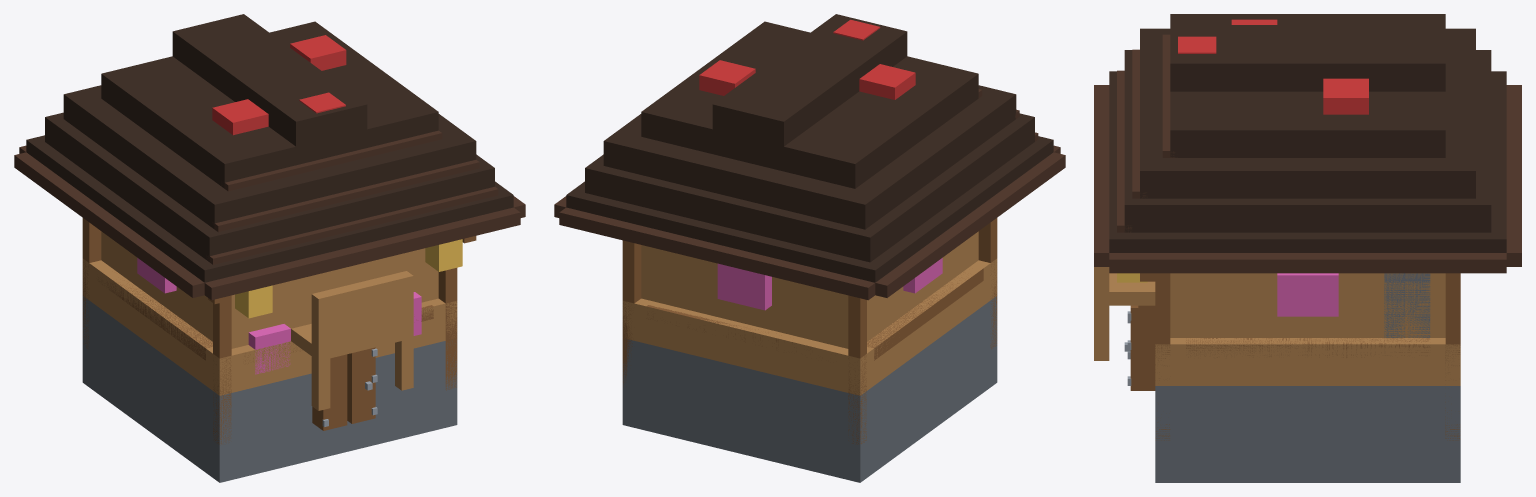
The model's file is house_1.gltf.
The picture shows the model from 3 angles, left to right: view 1: azimuth 30°, elevation 25°; view 2: azimuth 150°, elevation 25°; view 3: azimuth 270°, elevation 25°; orthographic projection. The views are drawn at different scales.
Parts seen in each view (by area): view 1: roof_layer_3, roof_layer_2, roof_ridge, roof_layer_1, foundation, roof_layer_0, second_story_core, wall_south_low, wall_west_low, eave_front, wall_west_oak, wall_south_oak (+25 smaller); view 2: roof_layer_3, roof_layer_2, roof_layer_1, roof_ridge, second_story_core, wall_north_low, wall_north_oak, roof_layer_0, foundation, wall_west_low, eave_back, wall_west_oak (+12 smaller); view 3: roof_layer_2, roof_layer_3, roof_ridge, roof_layer_1, wall_east_low, second_story_core, wall_east_oak, roof_layer_0, foundation, eave_right, base_trim_e, eave_front (+18 smaller).
Boxes of the visible parts, box(x1,y1,x2,y2) form: roof_layer_3: box(101, 21, 438, 188); roof_layer_2: box(63, 85, 476, 228); roof_ridge: box(172, 14, 367, 146); roof_layer_1: box(45, 112, 494, 261); foundation: box(82, 358, 457, 482); roof_layer_0: box(26, 135, 513, 282); second_story_core: box(101, 231, 438, 348); wall_south_low: box(213, 339, 457, 445); wall_west_low: box(89, 300, 212, 440); eave_front: box(204, 207, 520, 300); wall_west_oak: box(89, 260, 212, 390); wall_south_oak: box(213, 298, 457, 395); roof_layer_3: box(641, 21, 978, 188); roof_layer_2: box(603, 85, 1016, 229); roof_layer_1: box(585, 113, 1034, 262); roof_ridge: box(712, 14, 907, 146); second_story_core: box(641, 231, 978, 348); wall_north_low: box(622, 339, 866, 445); wall_north_oak: box(622, 298, 866, 395); roof_layer_0: box(566, 136, 1053, 282); foundation: box(622, 358, 997, 482); wall_west_low: box(867, 300, 990, 440); eave_back: box(559, 207, 875, 300); wall_west_oak: box(867, 260, 990, 390); roof_layer_2: box(1140, 28, 1475, 198); roof_layer_3: box(1170, 14, 1445, 157); roof_ridge: box(1170, 25, 1445, 91); roof_layer_1: box(1124, 50, 1491, 232); wall_east_low: box(1170, 386, 1445, 441); second_story_core: box(1170, 273, 1445, 337); wall_east_oak: box(1170, 338, 1445, 385); roof_layer_0: box(1109, 71, 1506, 252); foundation: box(1155, 455, 1460, 482); eave_right: box(1109, 253, 1506, 273); base_trim_e: box(1170, 441, 1445, 455); eave_front: box(1094, 85, 1109, 266).
Bounding box in the file's own units: 1.75 × 1.69 × 1.75.
Materials: 11 (11 with a texture image).
